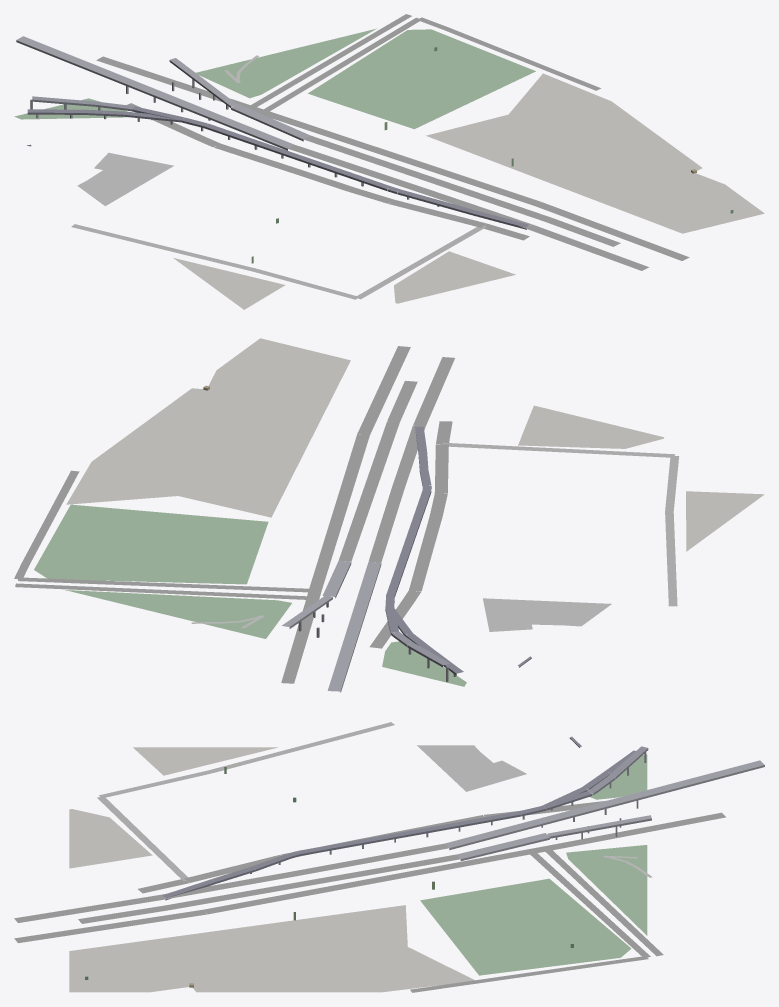
The picture shows the model from 3 angles, top to bottom: view 1: azimuth 30°, elevation 25°; view 2: azimuth 150°, elevation 25°; view 3: azimuth 270°, elevation 25°; orthographic projection. The views are drawn at different scales.
Size of the model in its own units: 552 by 27.59 by 649.
